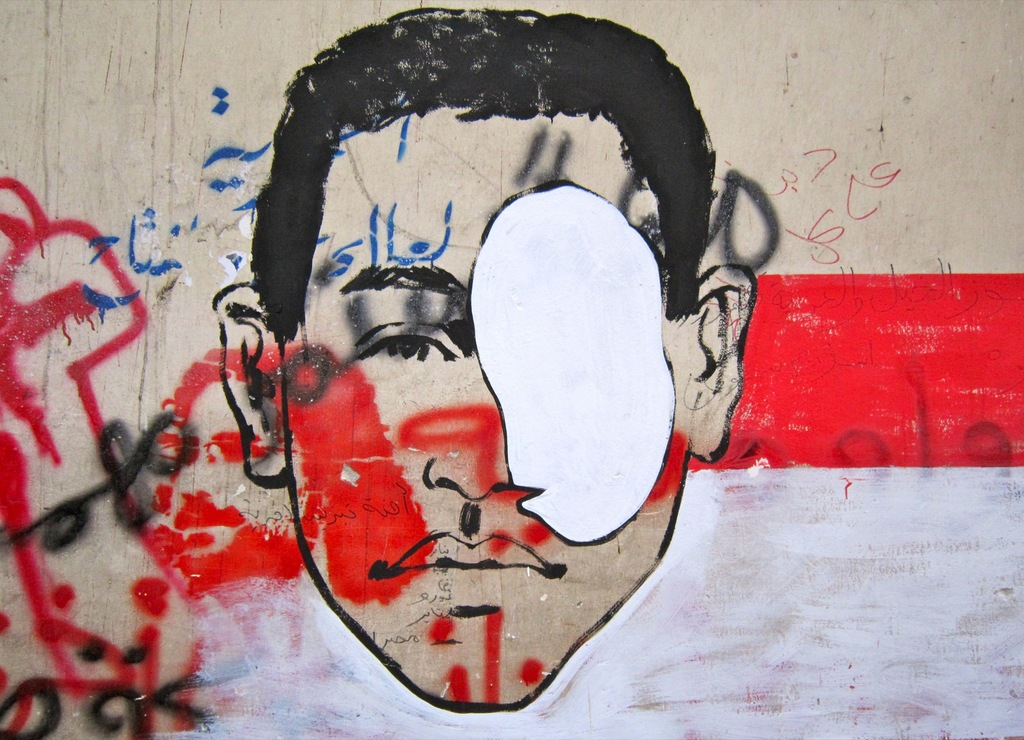Human-face: (285, 129, 688, 705)
